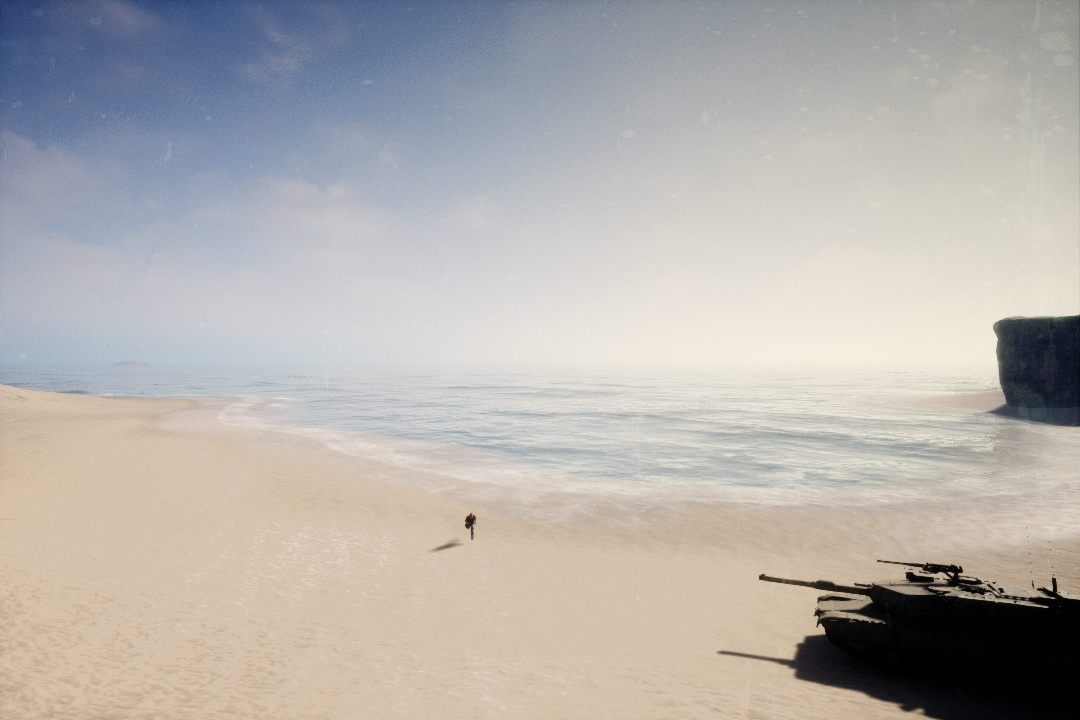person: (458, 507, 483, 545)
tank: (755, 549, 1080, 688)
